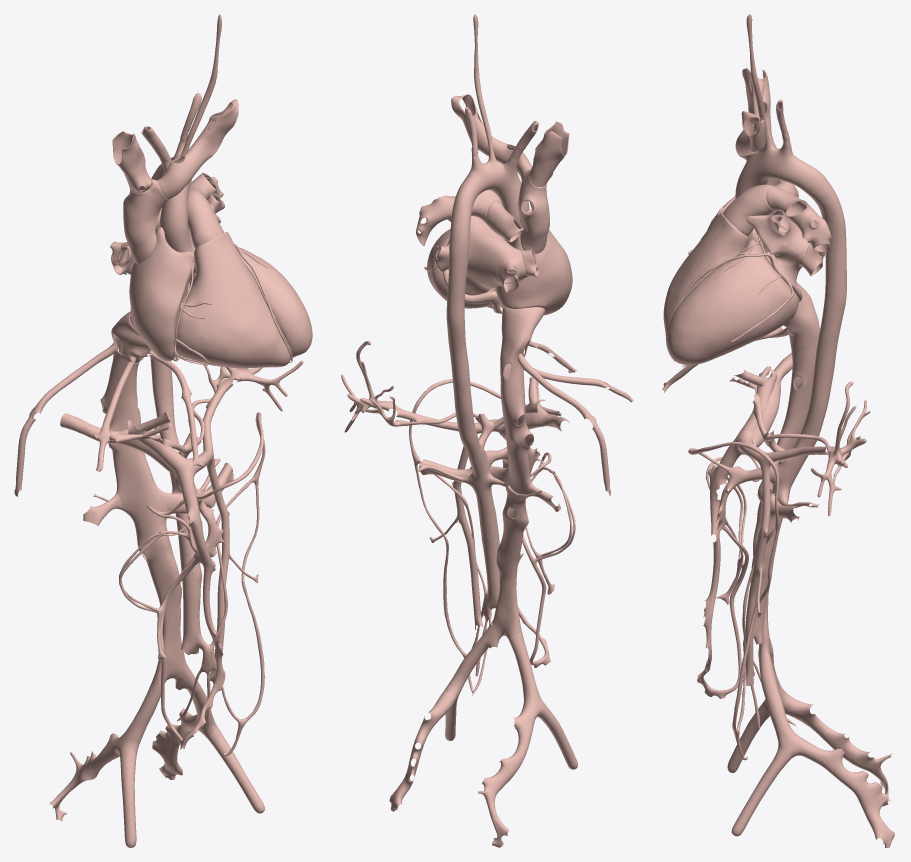
Rendered from lines.glb.
3 renders of one model, left to right at view 1: azimuth 30°, elevation 25°; view 2: azimuth 150°, elevation 25°; view 3: azimuth 270°, elevation 25°, orthographic. The views are drawn at different scales.
Visible parts, largest first — view 1: abd_veins, rv, portal, ivc, abd_arteries, ra, aorta, brachio_veins, lv, svc, pulm_art, arch_branches (+2 smaller); view 2: abd_veins, aorta, ivc, portal, abd_arteries, ra, brachio_veins, la, pulm_art, svc, arch_branches, pulm_veins (+2 smaller); view 3: portal, aorta, abd_veins, lv, abd_arteries, ivc, pulm_art, rv, la, brachio_veins, arch_branches, cardiac_veins (+1 smaller).
Part boxes in pixels (x1=…): abd_veins: x1=14, y1=341, x2=264, y2=847; rv: x1=174, y1=232, x2=290, y2=368; portal: x1=60, y1=360, x2=303, y2=749; ivc: x1=100, y1=311, x2=186, y2=680; abd_arteries: x1=93, y1=365, x2=265, y2=756; ra: x1=129, y1=227, x2=194, y2=361; aorta: x1=150, y1=154, x2=202, y2=654; brachio_veins: x1=112, y1=99, x2=238, y2=199; lv: x1=189, y1=247, x2=312, y2=357; svc: x1=123, y1=178, x2=168, y2=263; pulm_art: x1=156, y1=173, x2=224, y2=248; arch_branches: x1=141, y1=14, x2=221, y2=173; abd_veins: x1=389, y1=341, x2=633, y2=847; aorta: x1=446, y1=161, x2=529, y2=609; ivc: x1=492, y1=307, x2=544, y2=638; portal: x1=341, y1=341, x2=575, y2=667; abd_arteries: x1=354, y1=379, x2=572, y2=695; ra: x1=495, y1=209, x2=572, y2=315; brachio_veins: x1=451, y1=94, x2=569, y2=186; la: x1=447, y1=216, x2=528, y2=295; pulm_art: x1=416, y1=190, x2=523, y2=245; svc: x1=518, y1=168, x2=549, y2=253; arch_branches: x1=465, y1=14, x2=538, y2=173; pulm_veins: x1=432, y1=218, x2=538, y2=292; portal: x1=697, y1=353, x2=866, y2=698; aorta: x1=735, y1=147, x2=846, y2=644; abd_veins: x1=662, y1=327, x2=894, y2=847; lv: x1=667, y1=239, x2=798, y2=365; abd_arteries: x1=688, y1=366, x2=870, y2=760; ivc: x1=753, y1=282, x2=819, y2=653; pulm_art: x1=722, y1=181, x2=831, y2=252; rv: x1=663, y1=212, x2=748, y2=354; la: x1=746, y1=215, x2=809, y2=285; brachio_veins: x1=735, y1=68, x2=772, y2=159; arch_branches: x1=746, y1=14, x2=792, y2=156; cardiac_veins: x1=670, y1=249, x2=802, y2=366.
Size of the model in its own units: 2.36 by 6.49 by 1.65.
